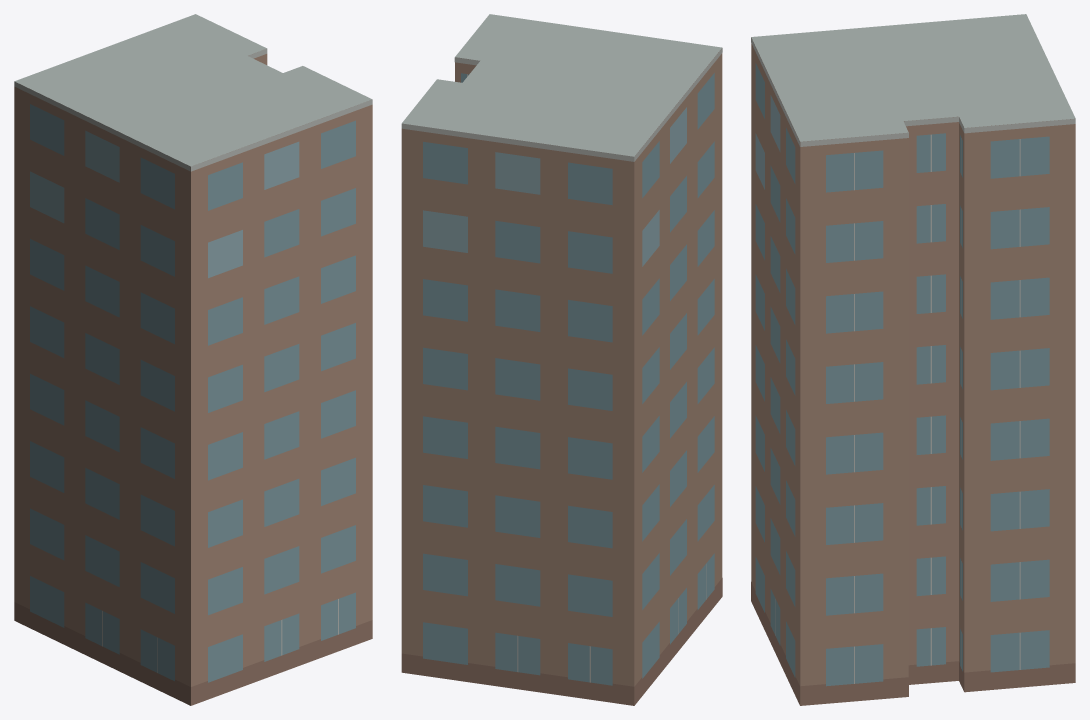
File: survey-upis-32633480.glb
3 renders of one model, left to right at view 1: azimuth 30°, elevation 25°; view 2: azimuth 150°, elevation 25°; view 3: azimuth 270°, elevation 25°, orthographic. The views are drawn at different scales.
Parts seen in each view (by area): view 1: survey-upis-32633480.tmp; view 2: survey-upis-32633480.tmp; view 3: survey-upis-32633480.tmp.
Part boxes in pixels (left/top/right/bottom): survey-upis-32633480.tmp: left=14, top=14, right=372, bottom=705; survey-upis-32633480.tmp: left=401, top=14, right=722, bottom=705; survey-upis-32633480.tmp: left=751, top=14, right=1075, bottom=705.
Size of the model in its own units: 12.54 by 25.8 by 13.46.
